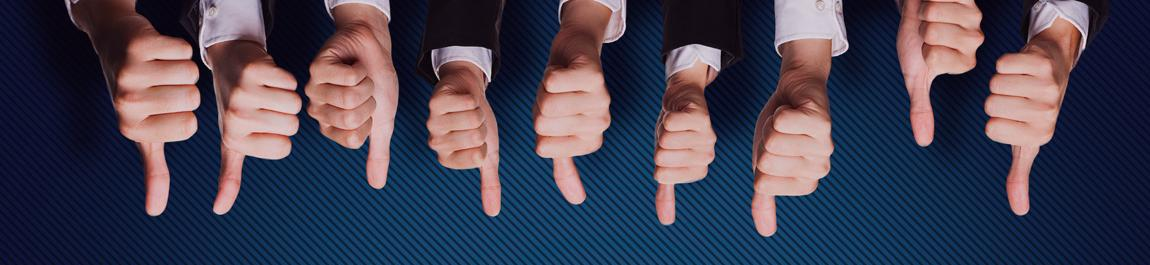thumbsdown: (116, 33, 201, 217), (212, 63, 302, 217), (984, 55, 1061, 217), (305, 53, 394, 191), (906, 0, 984, 148), (533, 64, 612, 206), (751, 106, 834, 237), (425, 88, 501, 217), (652, 110, 720, 226)
